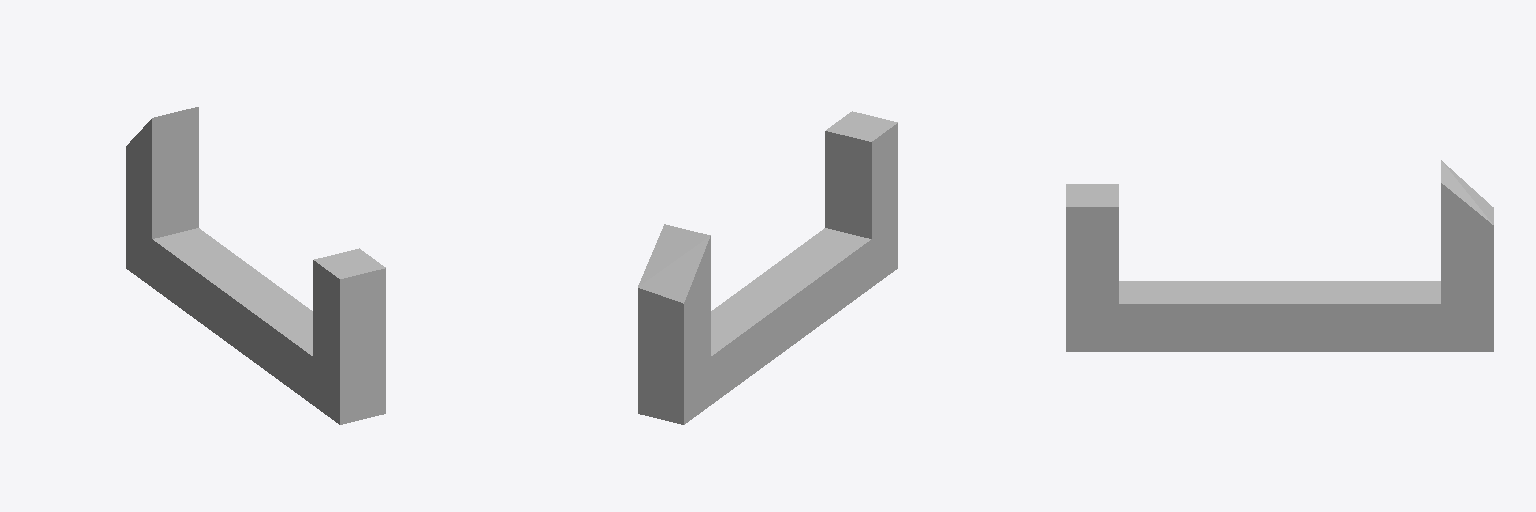
File: ryzertrailerhook.obj
The picture shows the model from 3 angles: view 1: azimuth 30°, elevation 25°; view 2: azimuth 150°, elevation 25°; view 3: azimuth 270°, elevation 25°; orthographic projection.
Visible parts, largest first — view 1: ryzertrailerhook; view 2: ryzertrailerhook; view 3: ryzertrailerhook.
Boxes of the visible parts, x1,y1,x2,y2 form: ryzertrailerhook: [126, 107, 385, 424]; ryzertrailerhook: [638, 111, 897, 424]; ryzertrailerhook: [1066, 160, 1493, 351].
Bounding box in the file's own units: 0.0625 × 0.2188 × 0.5.